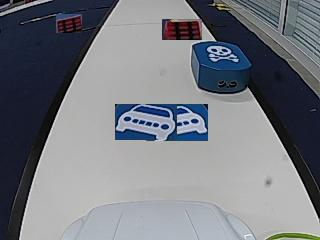danger: (207, 44, 238, 62)
